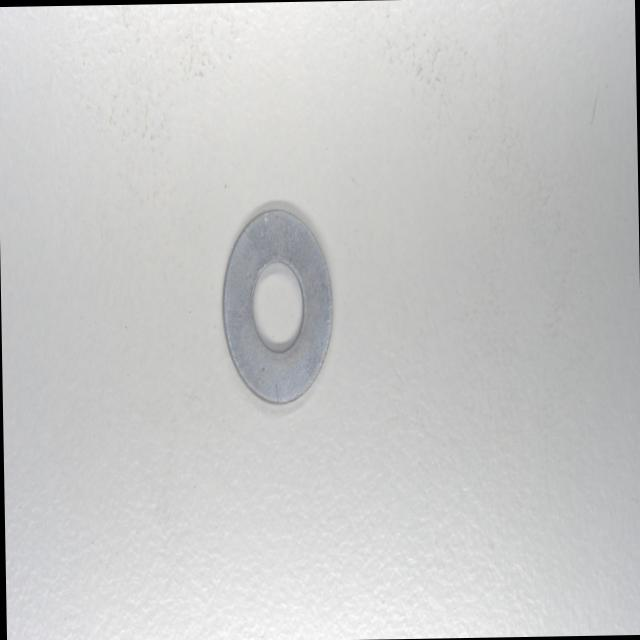washer: (217, 202, 335, 408)
